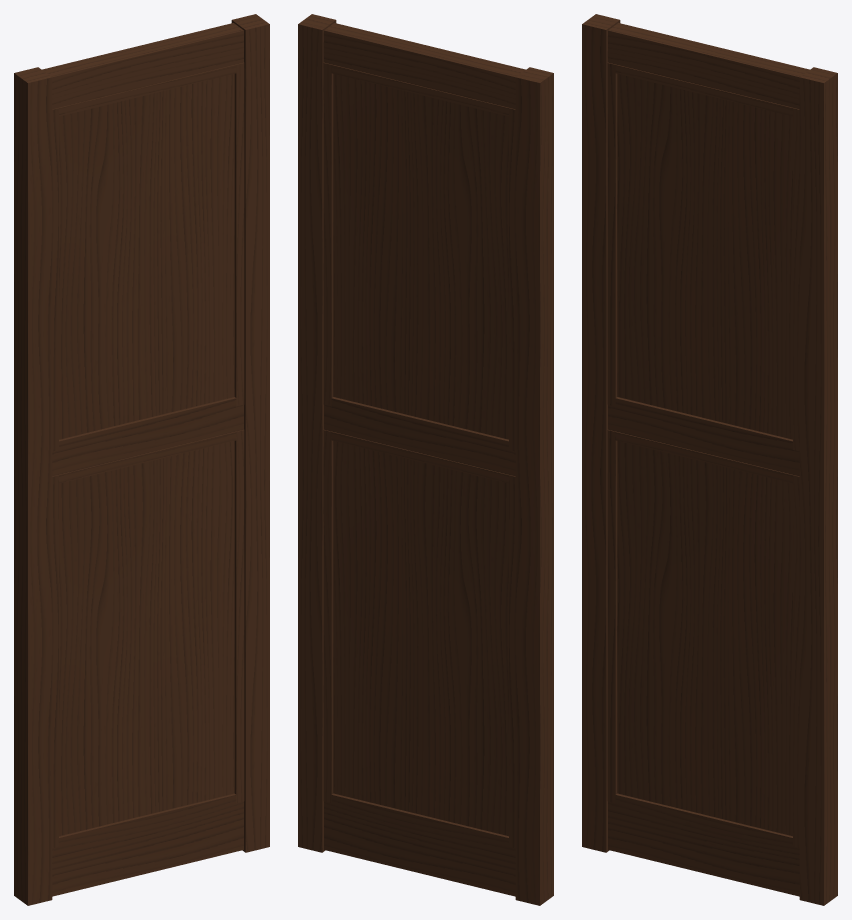
The model's file is X14_PART_Panel_Wood_060.glb.
The picture shows the model from 3 angles, left to right: view 1: azimuth 30°, elevation 25°; view 2: azimuth 150°, elevation 25°; view 3: azimuth 330°, elevation 25°; orthographic projection.
Visible parts, largest first — view 1: X14_PART_Panel_Wood_060_LOD0; view 2: X14_PART_Panel_Wood_060_LOD0; view 3: X14_PART_Panel_Wood_060_LOD0.
Part boxes in pixels (x1,y1,x2,y2): X14_PART_Panel_Wood_060_LOD0: [14, 14, 269, 905]; X14_PART_Panel_Wood_060_LOD0: [298, 14, 553, 905]; X14_PART_Panel_Wood_060_LOD0: [582, 14, 837, 905].
Size of what is drawn, in the model's own units: 0.6 by 1.95 by 0.06.
Materials: 1 (1 with a texture image).
